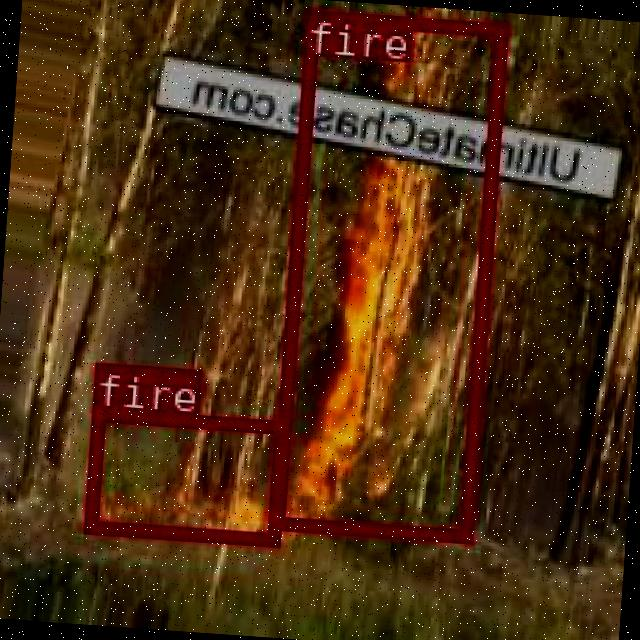fire: (268, 8, 504, 541), (81, 406, 285, 542)
